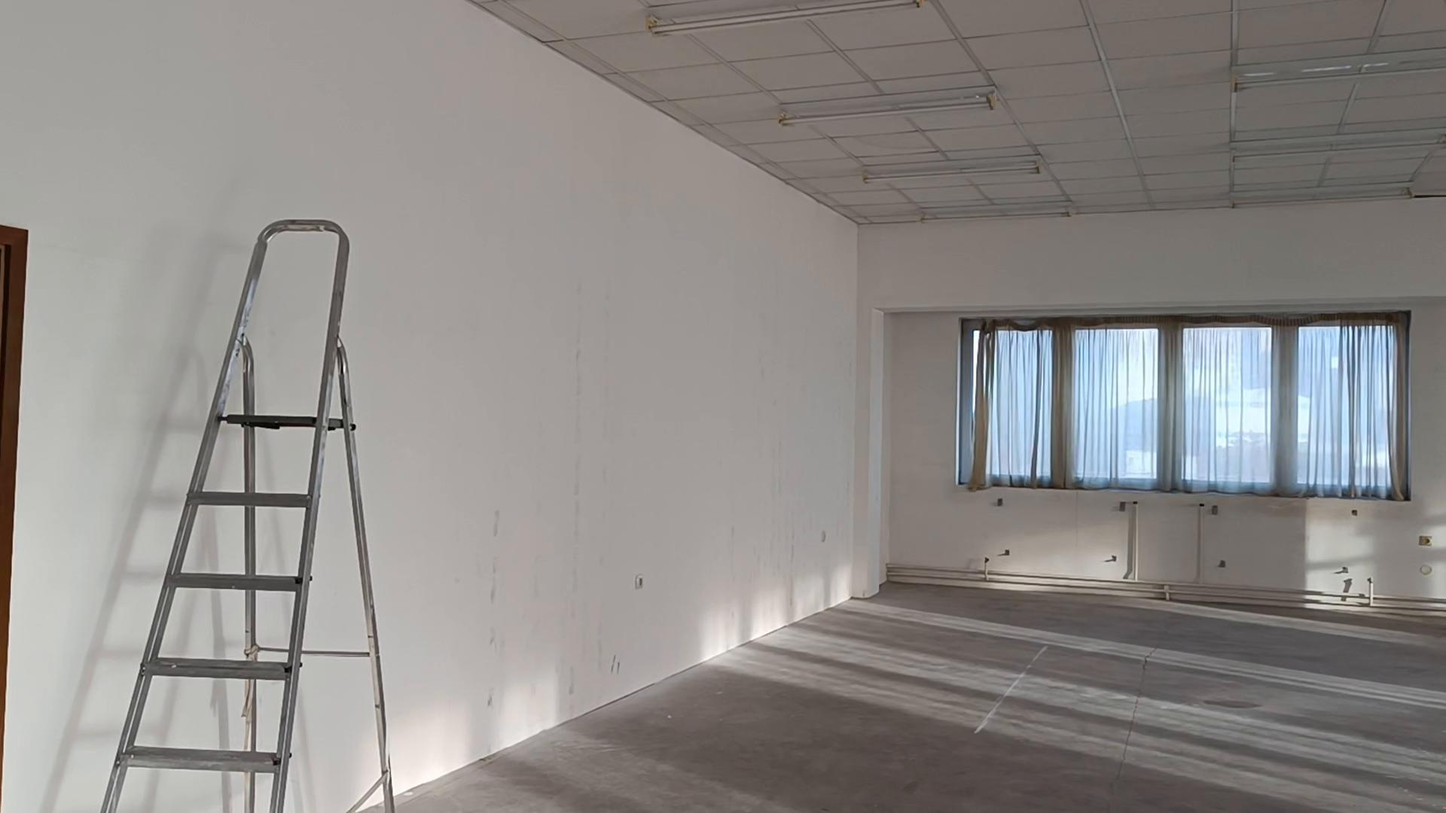ceiling: (471, 0, 1445, 222)
floor: (398, 583, 1445, 812)
wall: (0, 0, 1445, 812), (886, 317, 1406, 600)
